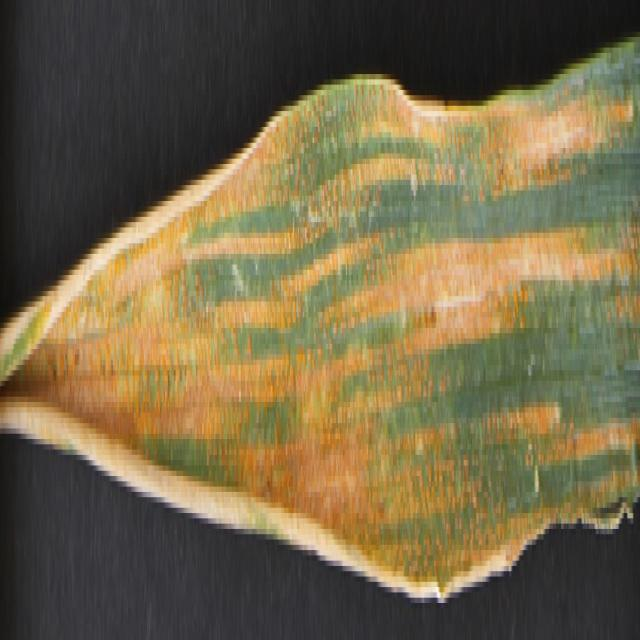leaf rust: (1, 68, 640, 598)
